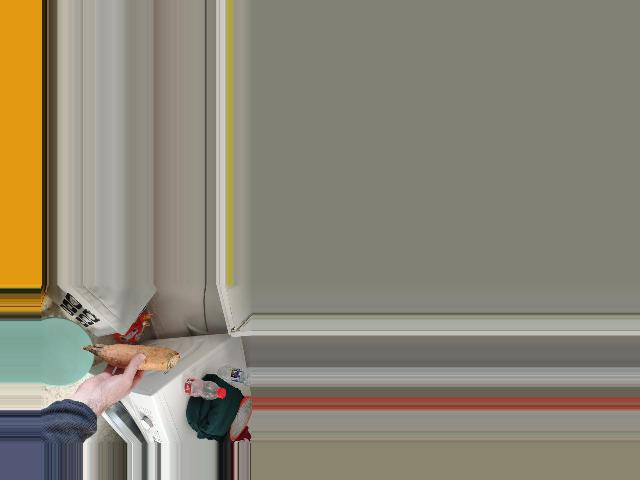sweet_potato: (81, 337, 184, 377)
